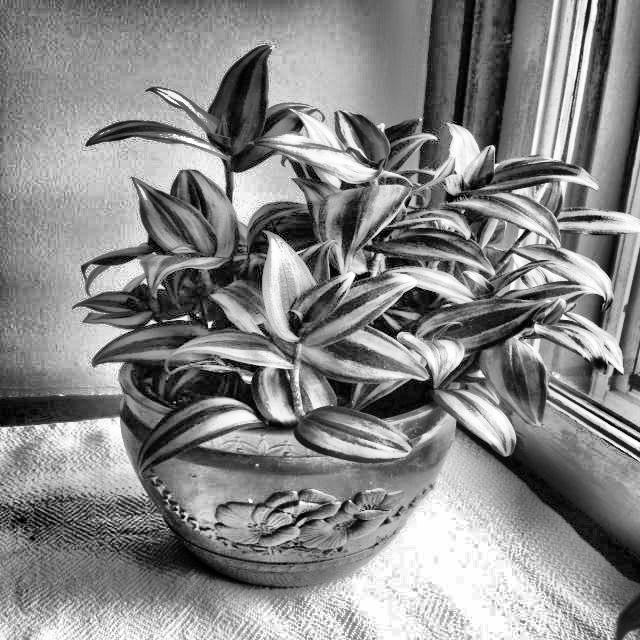plants: (91, 37, 640, 479)
